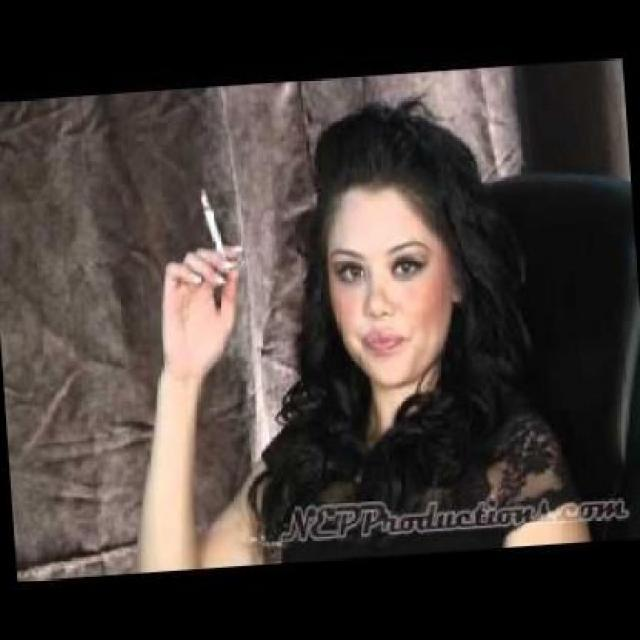cigarette: (198, 185, 228, 264)
